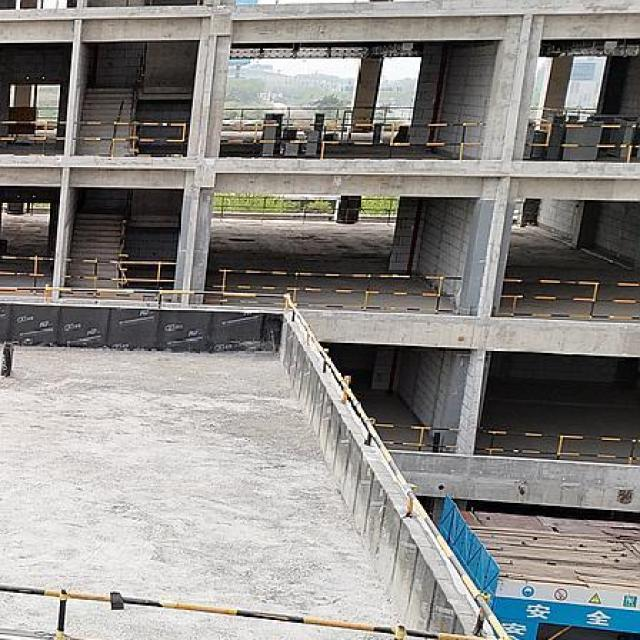edge_guardrail: (0, 285, 515, 640), (204, 267, 464, 316), (218, 121, 482, 158), (491, 277, 640, 322), (474, 429, 640, 464), (524, 122, 640, 164), (77, 121, 186, 158), (63, 258, 177, 289), (211, 195, 338, 218), (374, 422, 459, 451), (223, 106, 353, 124), (0, 254, 54, 287), (0, 120, 66, 140), (359, 198, 397, 216), (375, 107, 414, 122)
